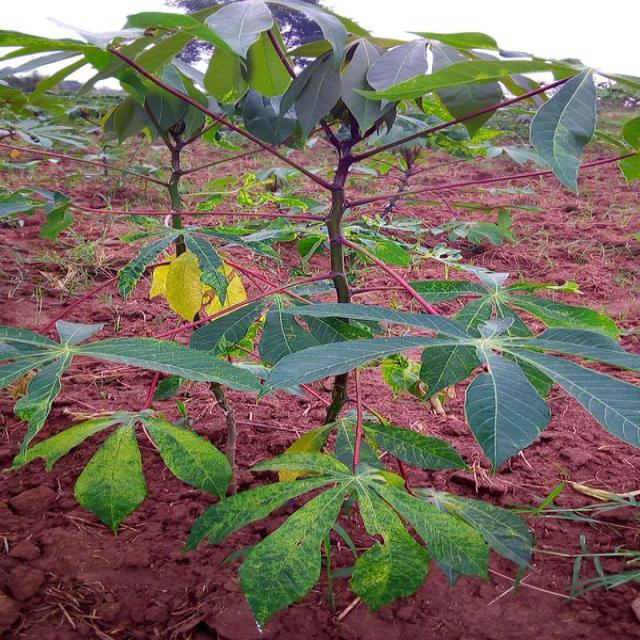cassava leaf: (463, 348, 551, 474), (528, 66, 597, 194), (72, 420, 147, 534), (141, 414, 233, 497)
